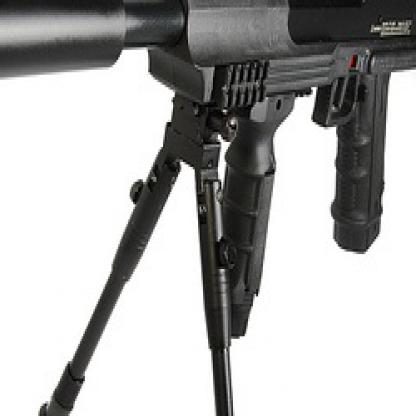gun: (151, 0, 415, 307)
